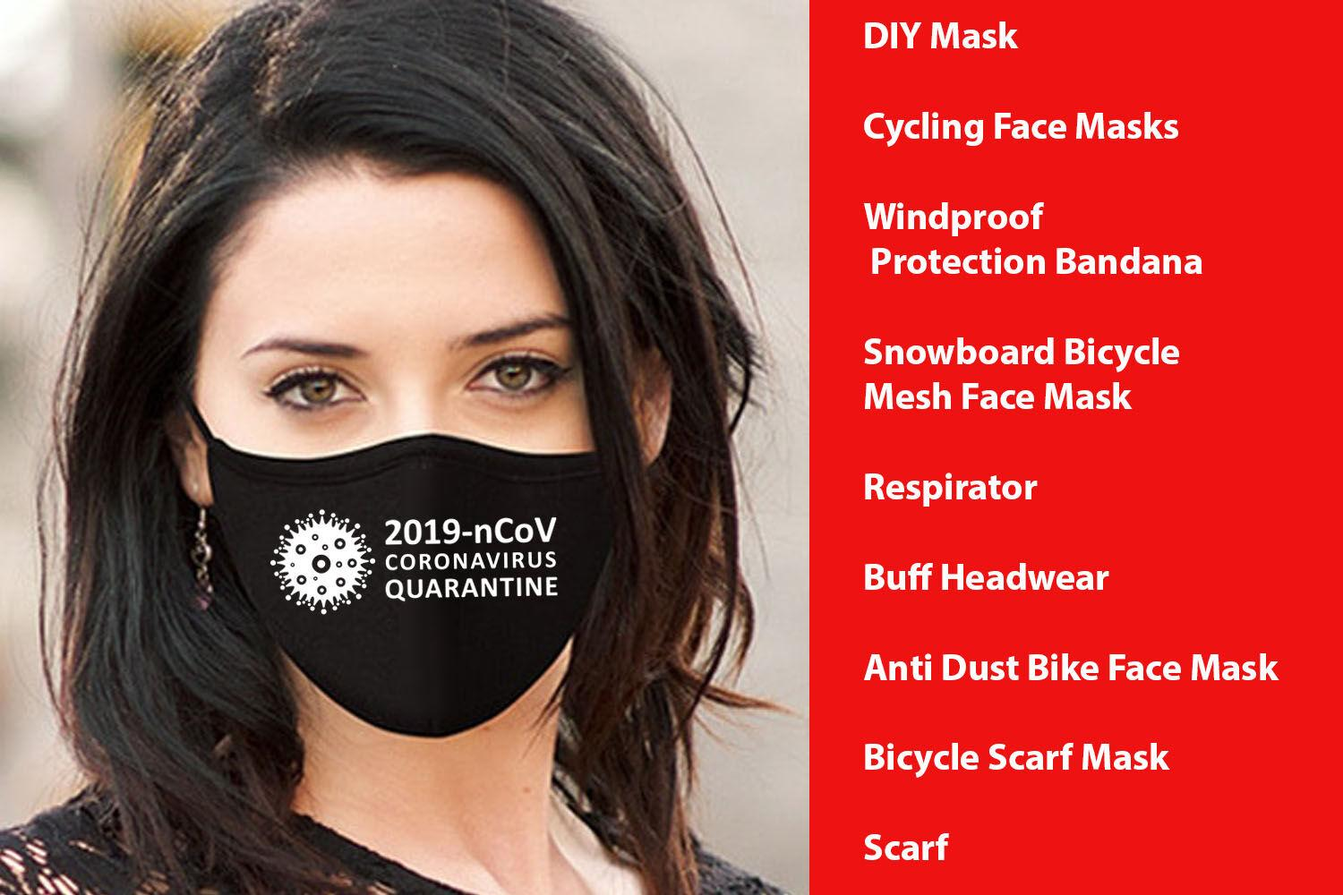Wearing Mask: (81, 16, 761, 895)
